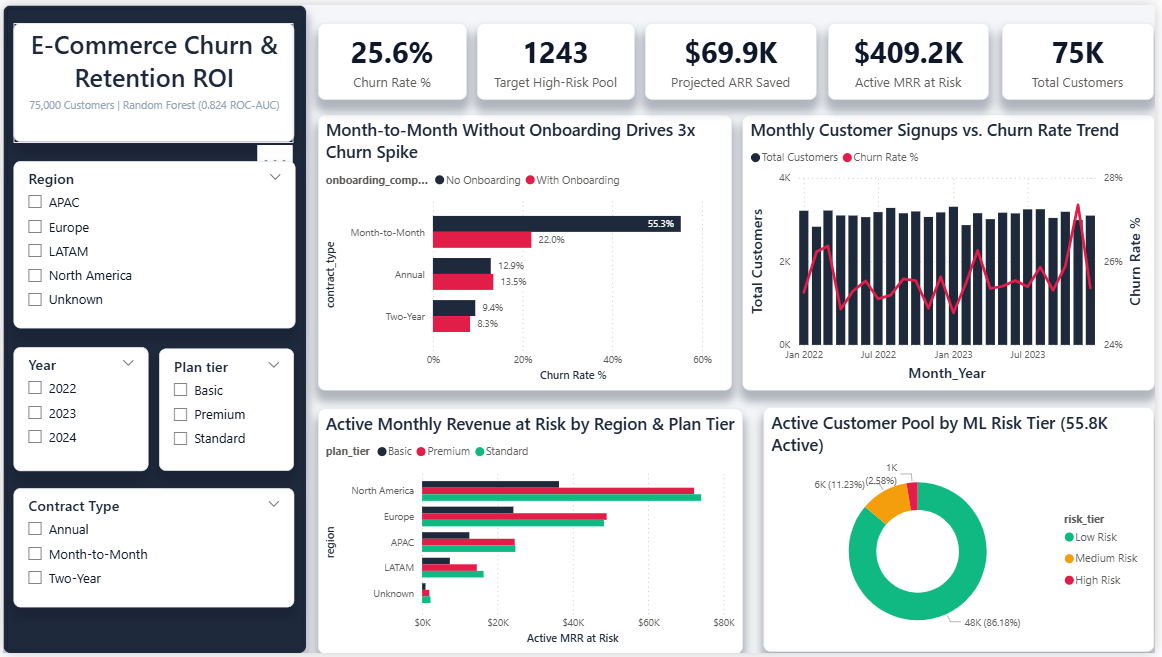

What the dashboard file says about the page in this screenshot:
{"tool":"powerbi","page":{"name":"Page 1","canvas":[1280,720],"ordinal":0},"visuals":[{"type":"clusteredBarChart","title":"Month-to-Month Without Onboarding Drives 3x Churn Spike","fields":{"Category":["Dim_Subscription.contract_type"],"Y":["Measures (2).Churn Rate %"],"Series":["Dim_Customer.onboarding_completed"]},"box":[349.2,121,460,306.7],"z":0},{"type":"lineClusteredColumnComboChart","title":"Monthly Customer Signups vs. Churn Rate Trend","fields":{"Category":["Dim_Date.Month_Year"],"Y":["Measures (2).Total Customers"],"Y2":["Measures (2).Churn Rate %"]},"box":[821.2,121,458.3,306.7],"z":1000},{"type":"donutChart","title":"Active Customer Pool by ML Risk Tier (55.8K Active)","fields":{"Category":["Fact_Customer_Churn.risk_tier"],"Y":["Measures (2).Active Customers"]},"box":[845,448.1,434.4,272.6],"z":2000},{"type":"actionButton","box":[0,0,100,40],"z":3000},{"type":"card","fields":{"Values":["Measures (2).Churn Rate %"]},"box":[349.2,20.4,165.3,85.2],"z":4000},{"type":"card","fields":{"Values":["Measures (2).Total Customers"]},"box":[1110.8,20.4,168.7,85.2],"z":5000},{"type":"card","fields":{"Values":["Measures (2).Active MRR at Risk"]},"box":[916.6,20.4,178.9,85.2],"z":6000},{"type":"card","fields":{"Values":["Measures (2).Target High-Risk Pool"]},"box":[526.4,20.4,175.5,85.2],"z":7000},{"type":"card","fields":{"Values":["Measures (2).Projected ARR Saved"]},"box":[713.8,20.4,190.8,85.2],"z":8000},{"type":"clusteredBarChart","title":"Active Monthly Revenue at Risk by Region & Plan Tier","fields":{"Category":["Dim_Customer.region"],"Y":["Measures (2).Active MRR at Risk"],"Series":["Dim_Subscription.plan_tier"]},"box":[349.2,448.1,471.9,272.6],"z":9000},{"type":"shape","box":[0,0,337.3,720.6],"z":10000},{"type":"textbox","title":"E-Commerce Churn & Retention ROI","box":[11.9,20.4,311.8,132.9],"z":11000},{"type":"slicer","fields":{"Values":["Dim_Customer.region"]},"box":[11.9,173.8,313.5,185.7],"z":11001},{"type":"slicer","fields":{"Values":["Dim_Subscription.contract_type"]},"box":[11.9,536.6,311.8,132.9],"z":11002},{"type":"slicer","fields":{"Values":["Dim_Subscription.plan_tier"]},"box":[173.8,381.6,149.9,136.3],"z":11003},{"type":"slicer","fields":{"Values":["Dim_Date.Year"]},"box":[11.9,379.9,149.9,138],"z":11004}]}

Visuals, with their boxes in screenshot pixels (x1, y1, x2, y2), scaled from the page's 1280x720 canvas onto the 1162x657 screenshot:
"Month-to-Month Without Onboarding Drives 3x Churn Spike" clusteredBarChart: rect(317, 110, 735, 390)
"Monthly Customer Signups vs. Churn Rate Trend" lineClusteredColumnComboChart: rect(745, 110, 1161, 390)
"Active Customer Pool by ML Risk Tier (55.8K Active)" donutChart: rect(767, 409, 1161, 656)
actionButton: rect(0, 0, 91, 36)
card - Measures (2).Churn Rate %: rect(317, 19, 467, 96)
card - Measures (2).Total Customers: rect(1008, 19, 1161, 96)
card - Measures (2).Active MRR at Risk: rect(832, 19, 995, 96)
card - Measures (2).Target High-Risk Pool: rect(478, 19, 637, 96)
card - Measures (2).Projected ARR Saved: rect(648, 19, 821, 96)
"Active Monthly Revenue at Risk by Region & Plan Tier" clusteredBarChart: rect(317, 409, 745, 656)
shape: rect(0, 0, 306, 656)
"E-Commerce Churn & Retention ROI" textbox: rect(11, 19, 294, 140)
slicer - Dim_Customer.region: rect(11, 159, 295, 328)
slicer - Dim_Subscription.contract_type: rect(11, 490, 294, 611)
slicer - Dim_Subscription.plan_tier: rect(158, 348, 294, 473)
slicer - Dim_Date.Year: rect(11, 347, 147, 473)
